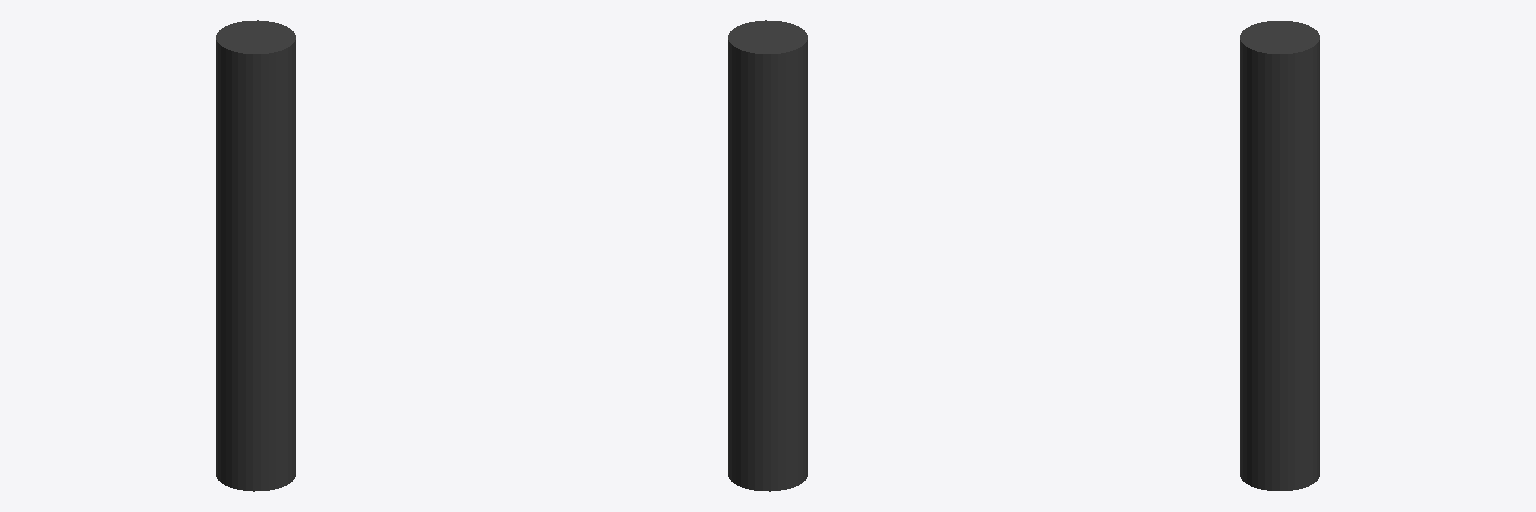
The robot description file, URDF, robot "box":
<?xml version='1.0' encoding='UTF-8'?>
<robot name="box">
  <link name="base_link">
    <inertial>
      <origin xyz="0.0 0.0 0.0" rpy="0.0 -0.0 0.0"/>
      <mass value="1.0"/>
      <inertia ixx="1.0" ixy="0.0" ixz="0.0" iyy="1.0" iyz="0.0" izz="1.0"/>
    </inertial>
    <visual name="base_link_visual">
      <geometry>
        <cylinder radius="0.25" length="3"/>
      </geometry>
      <material name="base_link_color">
        <color rgba="0.3 0.3 0.3 1"/>
      </material>
      <origin xyz="0 0 0" rpy="0 0 0"/>
    </visual>
    <collision name="base_link_collision">
      <geometry>
        <cylinder radius="0.25" length="3"/>
      </geometry>
      <origin xyz="0 0 0" rpy="0 0 0"/>
    </collision>
  </link>
</robot>

--- Render facts (derived) ---
3 views of the same robot in one strip: view 1: azimuth 30°, elevation 25°; view 2: azimuth 150°, elevation 25°; view 3: azimuth 270°, elevation 25° (orthographic).
Model box with 1 links and 0 joints (none), rooted at base_link, posed all joints at 0.
Visible links, largest first — view 1: base_link; view 2: base_link; view 3: base_link.
Link boxes in pixels (box(x1,y1,x2,y2)): base_link: box(216, 20, 295, 491); base_link: box(728, 20, 807, 491); base_link: box(1240, 21, 1319, 490).
Bounding box of the posed robot: 0.5 × 0.5 × 3 m (x, y, z).
Geometry: primitives only (box / cylinder / sphere), no mesh files.